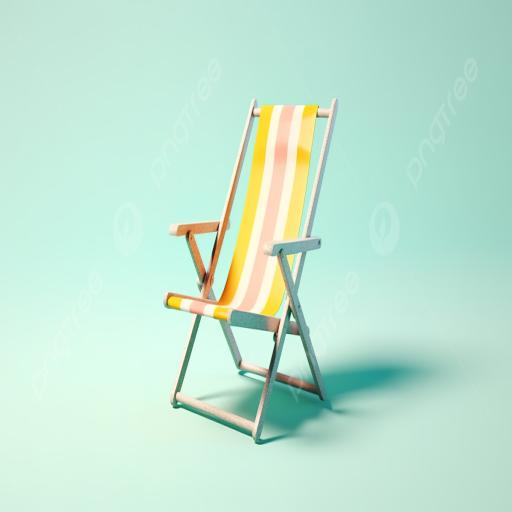chair: (167, 102, 347, 446)
